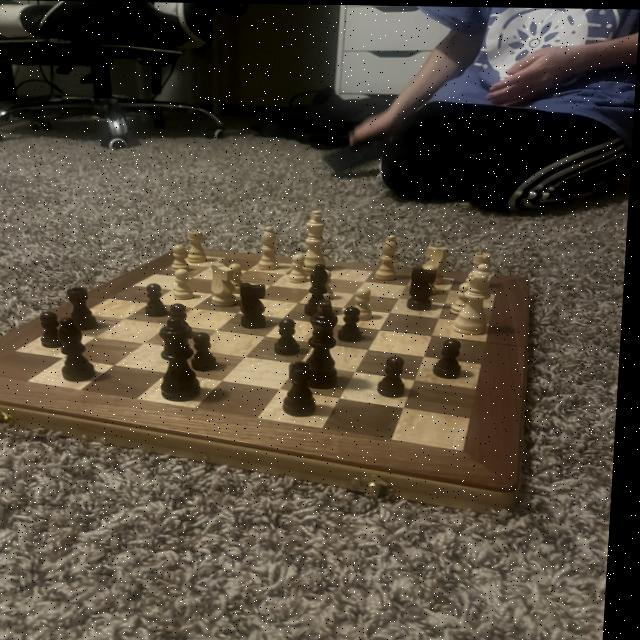bishop: (58, 315, 106, 385), (306, 260, 337, 316)
black-bishop: (306, 296, 349, 392)
black-king: (240, 280, 274, 331), (409, 263, 442, 310)
black-knight: (378, 353, 417, 400), (435, 337, 470, 379), (194, 329, 226, 373), (41, 309, 72, 349), (276, 316, 307, 356), (341, 303, 371, 343), (173, 300, 200, 339), (146, 283, 174, 317)
black-pawn: (159, 314, 209, 402)
black-queen: (286, 359, 325, 417), (67, 285, 105, 333)
black-rook: (375, 231, 409, 280), (259, 225, 286, 270)
white-bishop: (300, 207, 336, 278)
white-king: (213, 261, 245, 309), (423, 244, 453, 284)
white-knight: (175, 266, 204, 301), (353, 285, 378, 323), (451, 280, 477, 315), (226, 261, 253, 294), (421, 263, 443, 296), (291, 251, 312, 284), (173, 243, 196, 272), (321, 267, 338, 301)
white-pawn: (453, 261, 500, 336)
white-queen: (468, 250, 498, 288), (189, 227, 215, 263)
